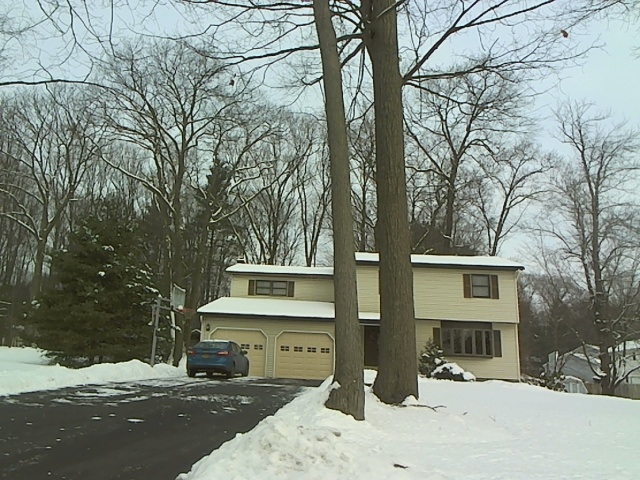Ploughed: (3, 380, 292, 472)
